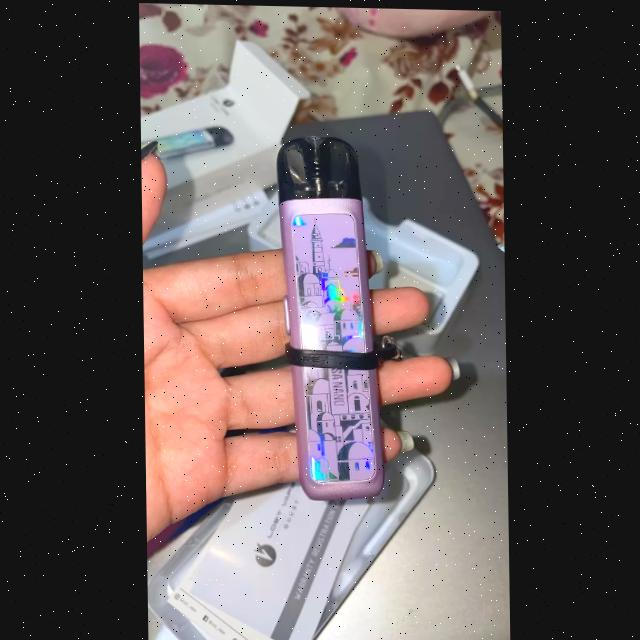vape: (273, 131, 386, 501), (141, 125, 234, 157)
